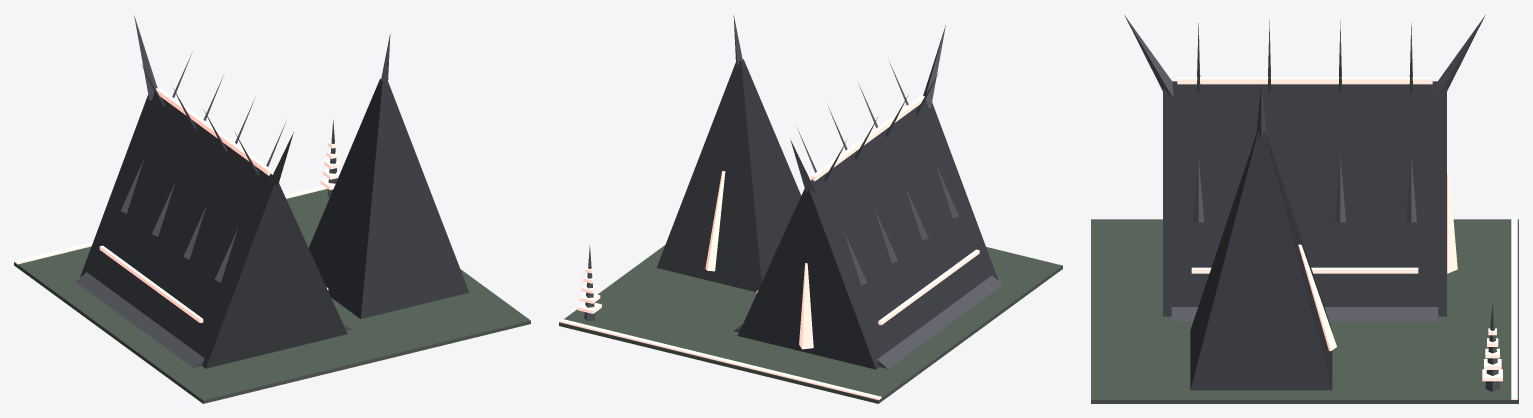
Rendered from zone_low_6_t5.glb.
The picture shows the model from 3 angles, left to right: view 1: azimuth 30°, elevation 25°; view 2: azimuth 150°, elevation 25°; view 3: azimuth 270°, elevation 25°; orthographic projection. The views are drawn at different scales.
Visible parts, largest first — view 1: zone_low_6_t5, detail; view 2: zone_low_6_t5, detail; view 3: zone_low_6_t5, detail.
Part boxes in pixels (bbox=[...]): zone_low_6_t5: bbox=[14, 15, 530, 403]; detail: bbox=[14, 120, 341, 322]; zone_low_6_t5: bbox=[559, 15, 1062, 403]; detail: bbox=[559, 245, 979, 399]; zone_low_6_t5: bbox=[1091, 15, 1518, 403]; detail: bbox=[1191, 217, 1517, 399].
Bounding box in the file's own units: 19.6 × 14.44 × 19.6.
